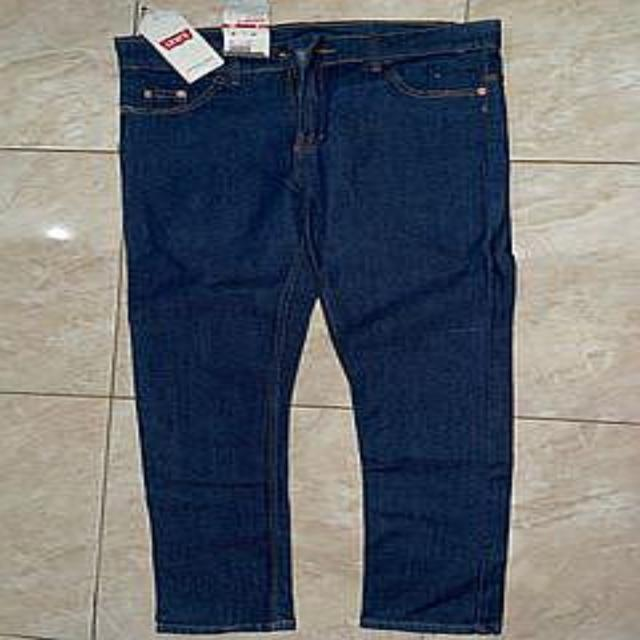TROUSER: (101, 14, 538, 640)
